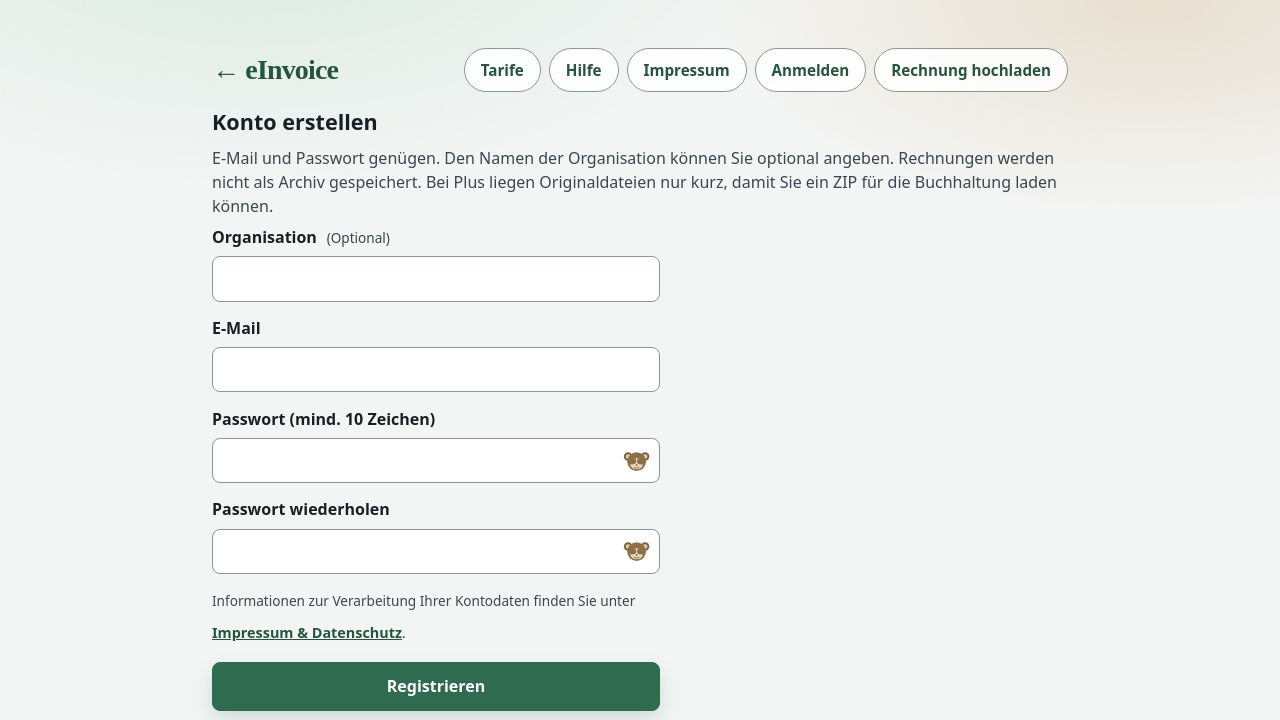
Test: RegisterPage › blocks submit when passwords do not match
This screenshot has width=1280, height=720.
Type "meister@example.com" into the field labelled "E-Mail". click: (436,370)
box: [212,347,660,392]
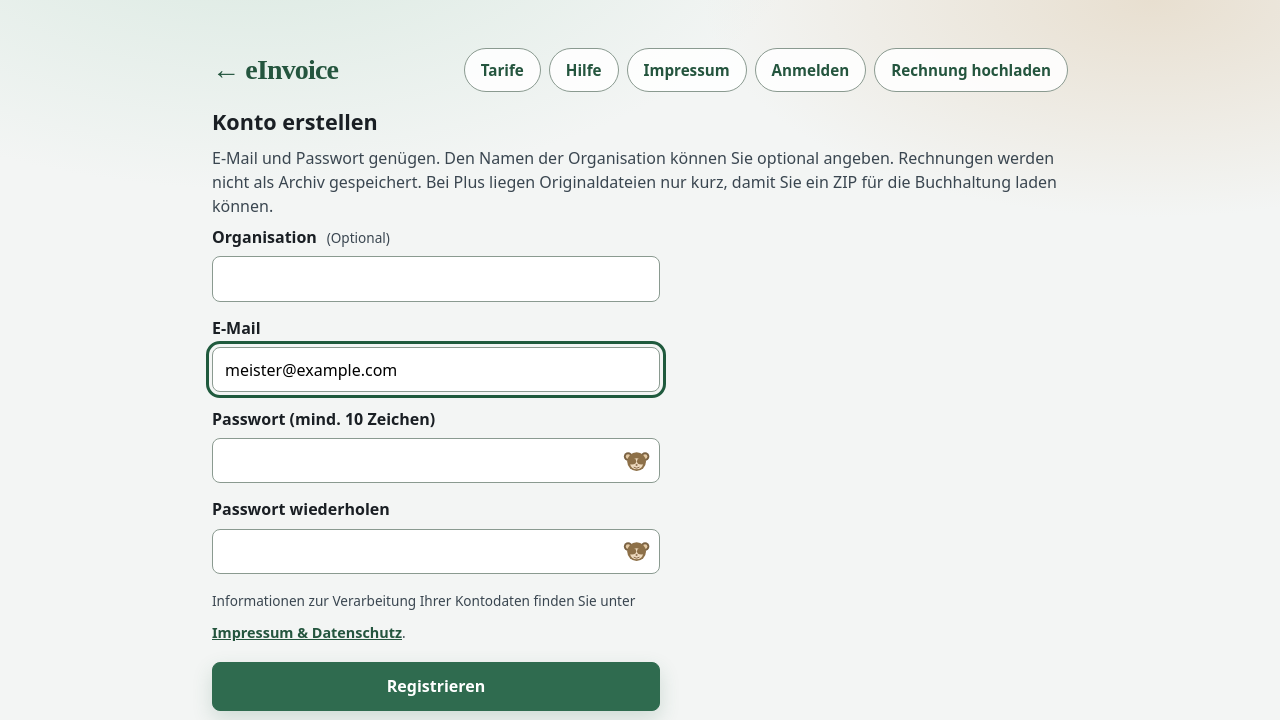
Type "sicher-passwort-1" into the password field labelled "Passwort (mind. 10 Zeichen)". click: (436,460)
box: [212,438,660,483]
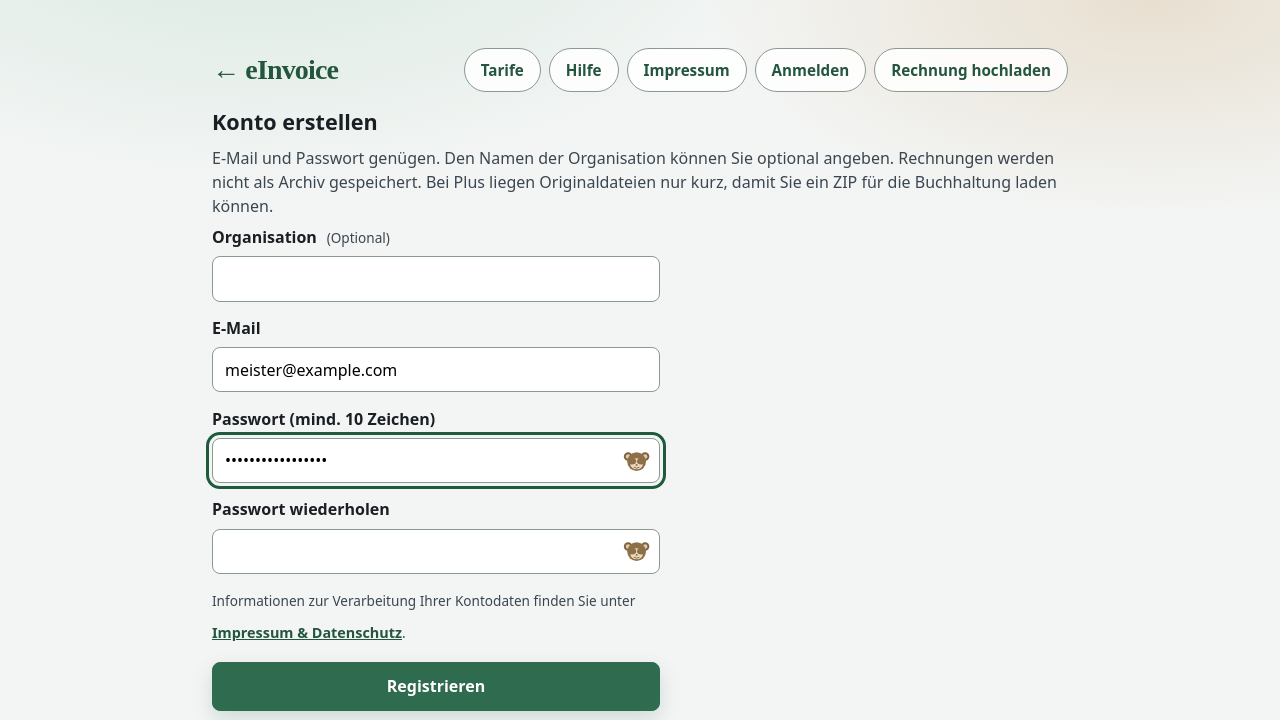
Type "anderes-passwort-9" into the password field labelled "Passwort wiederholen". click: (436,551)
box: [212,529,660,574]
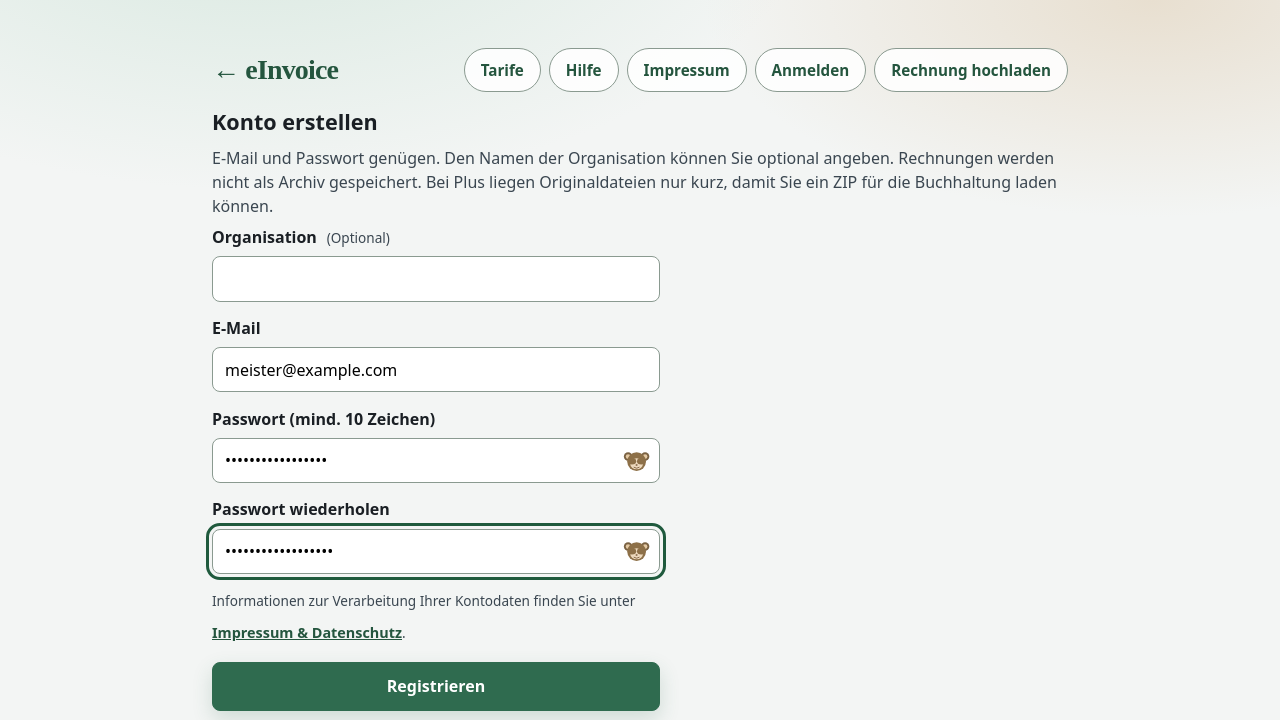
Click the button "Registrieren". click: (436,686)
box: [212,662,660,711]
(page scrolled)
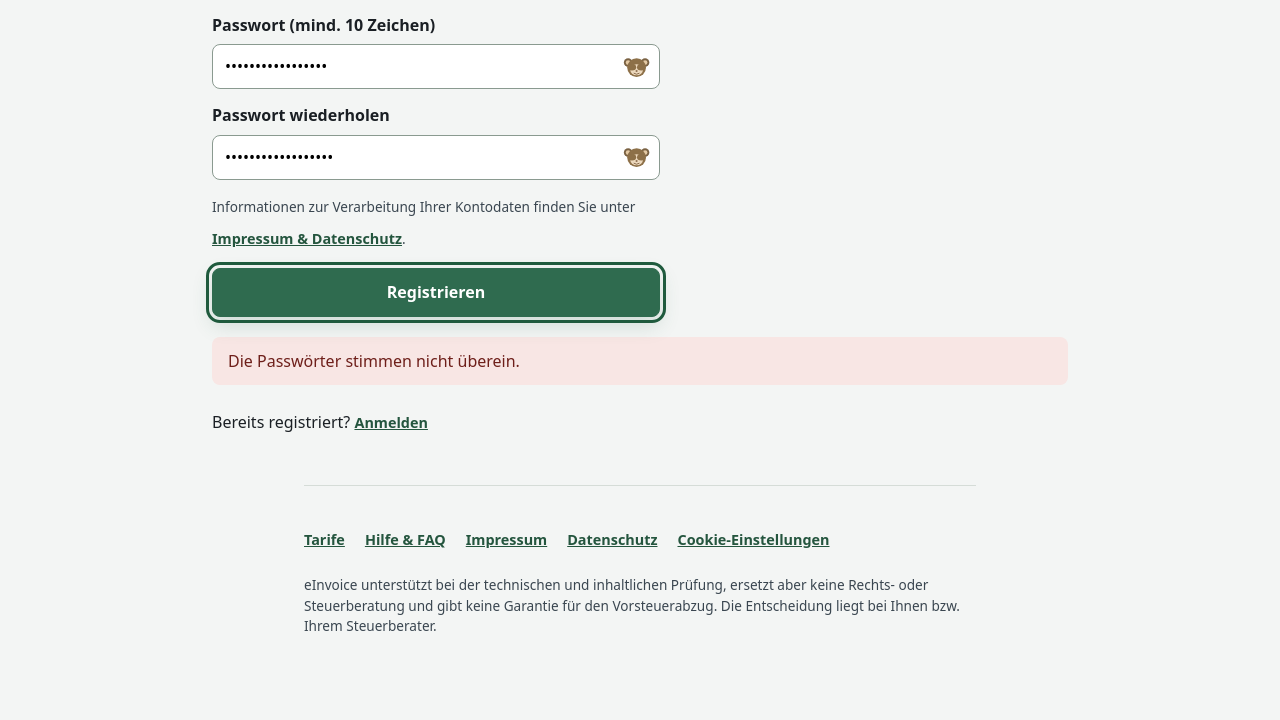
Result: the message reads "Die Passwörter stimmen nicht überein." at [228,350,520,372]
